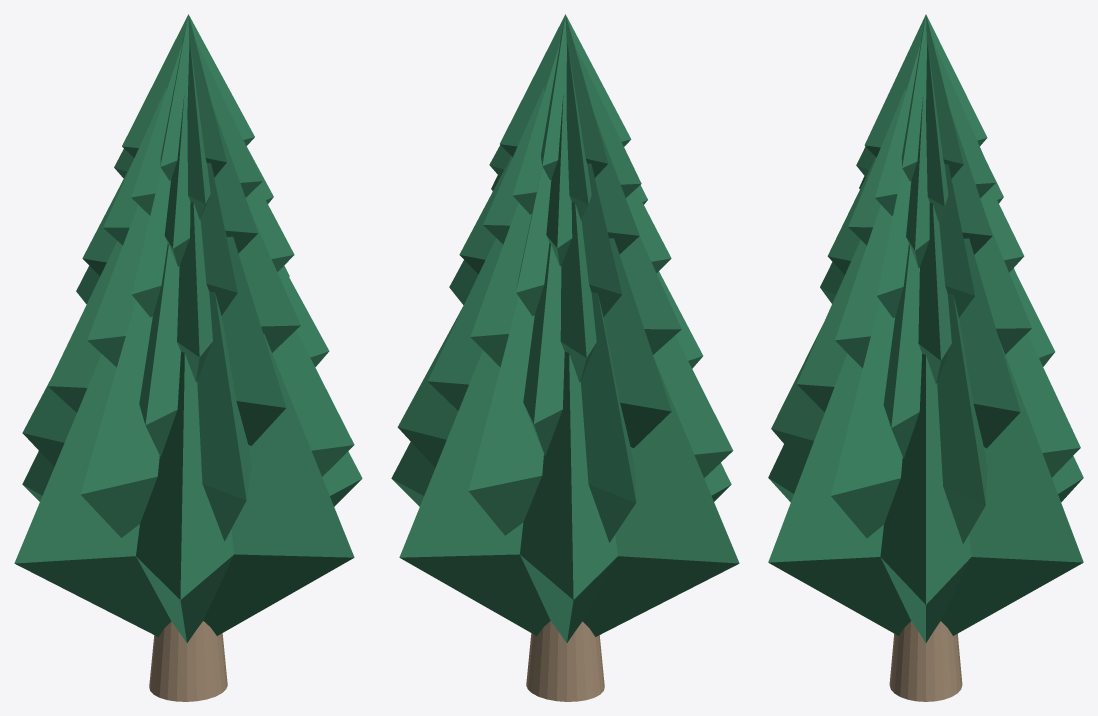
Rendered from Tree.glb.
3 renders of one model, left to right at view 1: azimuth 30°, elevation 25°; view 2: azimuth 150°, elevation 25°; view 3: azimuth 270°, elevation 25°, orthographic.
Parts seen in each view (by area): view 1: Mesh_Mesh_head_geo.001_lambert2SG.001; view 2: Mesh_Mesh_head_geo.001_lambert2SG.001; view 3: Mesh_Mesh_head_geo.001_lambert2SG.001.
Part boxes in pixels (bbox=[...]): Mesh_Mesh_head_geo.001_lambert2SG.001: bbox=[14, 14, 362, 701]; Mesh_Mesh_head_geo.001_lambert2SG.001: bbox=[391, 14, 739, 701]; Mesh_Mesh_head_geo.001_lambert2SG.001: bbox=[768, 14, 1083, 701].
Size of the model in its own units: 64 by 118 by 50.32.
